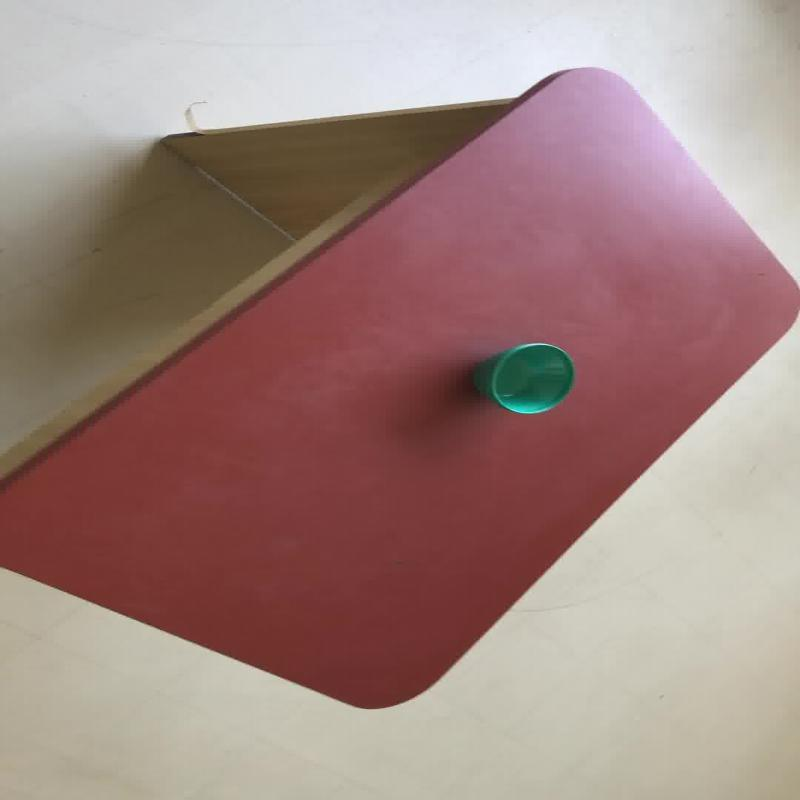bowl: (0, 65, 796, 709), (471, 342, 575, 414)
